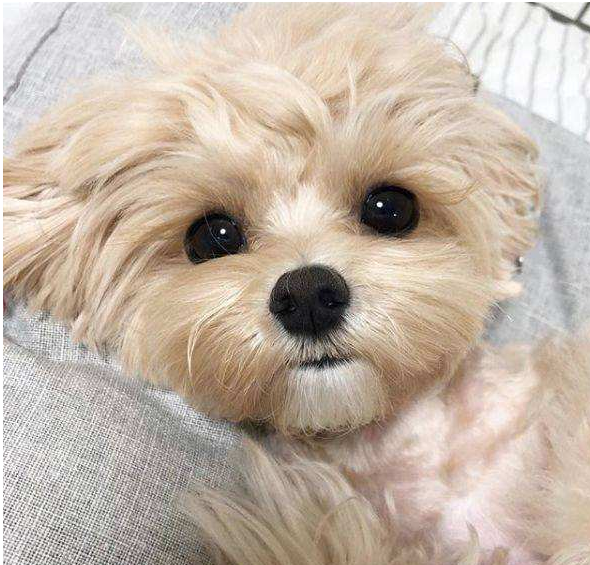nose: (260, 261, 370, 347)
